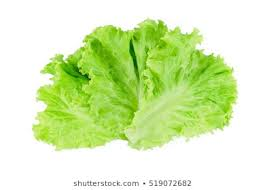Lettuce: (30, 17, 241, 176)
